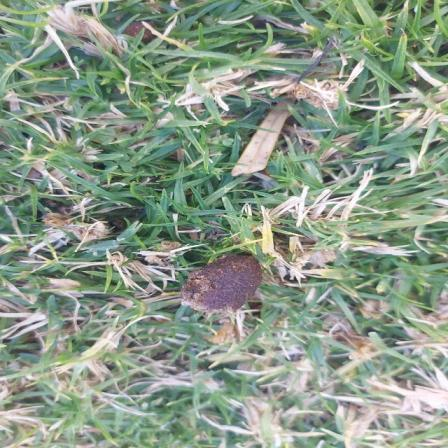dog-poop: (182, 246, 270, 320)
